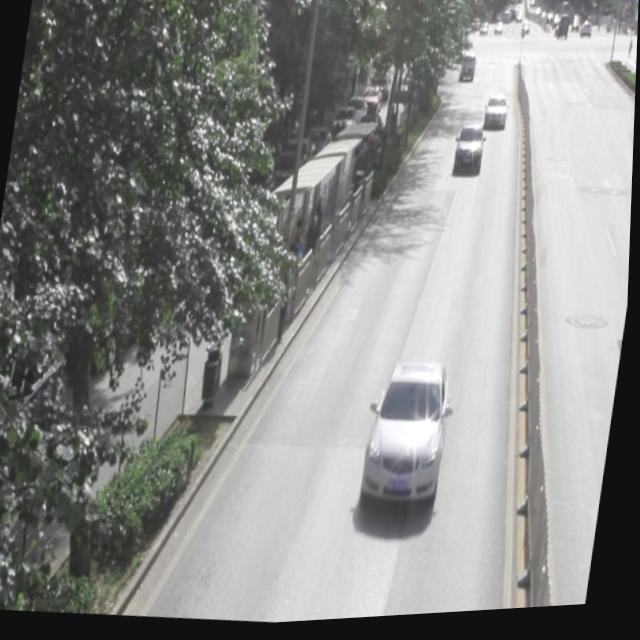car: (361, 359, 454, 516), (452, 126, 485, 177), (482, 97, 509, 133)
